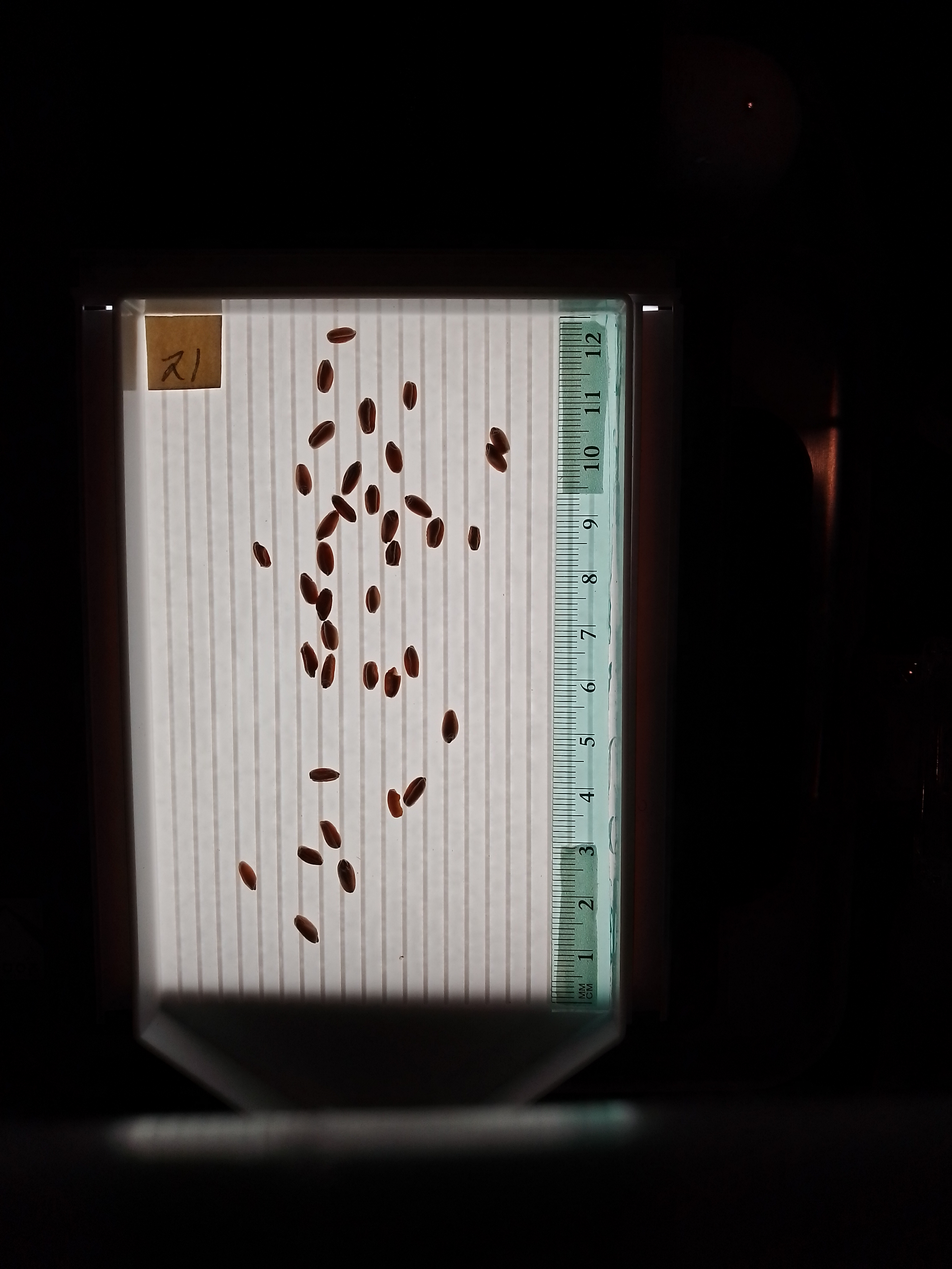seed mask: (358, 398, 377, 435), (309, 421, 334, 449), (295, 915, 319, 943), (403, 777, 426, 806), (332, 496, 356, 523), (317, 510, 339, 539), (485, 443, 507, 472), (342, 462, 361, 495), (320, 820, 341, 849), (489, 428, 509, 457), (316, 360, 334, 392), (442, 710, 459, 743), (381, 511, 399, 542), (338, 861, 356, 892), (406, 495, 431, 517), (301, 644, 318, 676), (300, 574, 318, 604), (317, 543, 334, 574), (386, 443, 403, 474), (321, 622, 339, 651), (404, 646, 420, 678), (316, 589, 333, 619), (427, 518, 444, 548), (327, 327, 356, 344), (384, 669, 401, 697), (364, 485, 380, 514), (310, 767, 339, 783), (239, 862, 256, 889), (296, 465, 311, 495), (363, 662, 379, 690), (299, 846, 322, 865), (321, 656, 335, 687), (402, 382, 417, 410), (366, 586, 381, 613), (254, 543, 270, 567), (388, 790, 402, 817), (386, 542, 401, 566), (468, 526, 480, 550)
